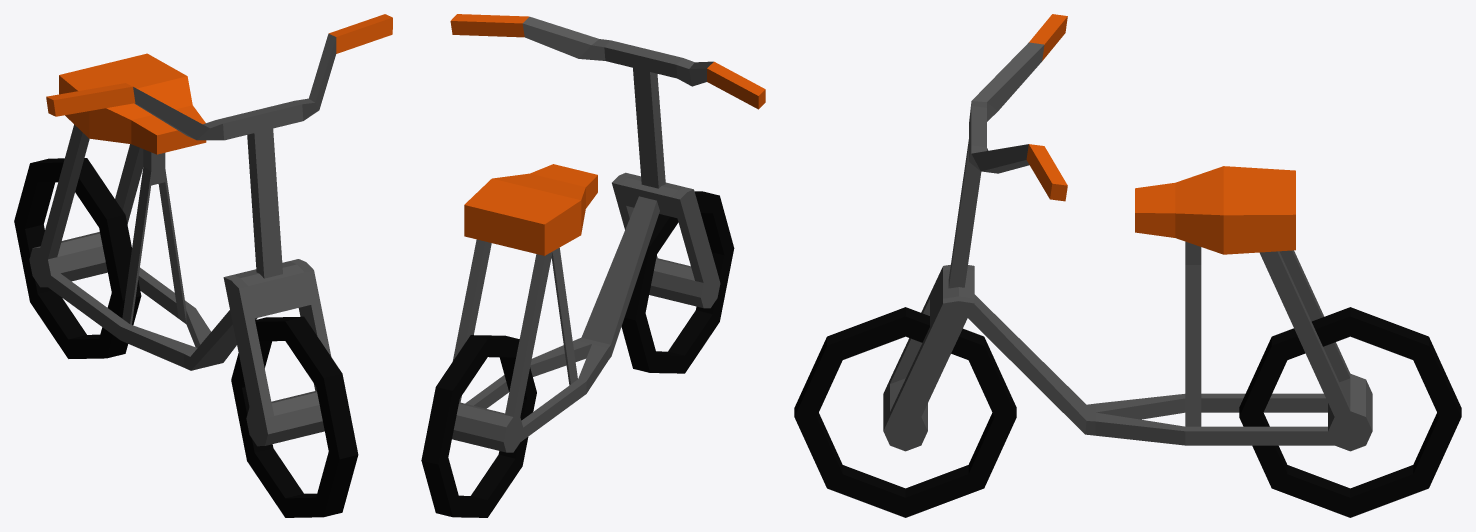
File: chari.fbx
The picture shows the model from 3 angles, left to right: view 1: azimuth 30°, elevation 25°; view 2: azimuth 150°, elevation 25°; view 3: azimuth 270°, elevation 25°; orthographic projection. The views are drawn at different scales.
Parts seen in each view (by area): view 1: 円, 立方体; view 2: 円, 立方体; view 3: 円, 立方体.
Boxes of the visible parts, x1,y1,x2,y2 form: 円: (14, 14, 392, 517); 立方体: (59, 53, 206, 154); 円: (421, 14, 765, 517); 立方体: (464, 164, 597, 255); 円: (794, 14, 1461, 517); 立方体: (1135, 166, 1295, 254).
Bounding box in the file's own units: 361 × 417 × 600.
